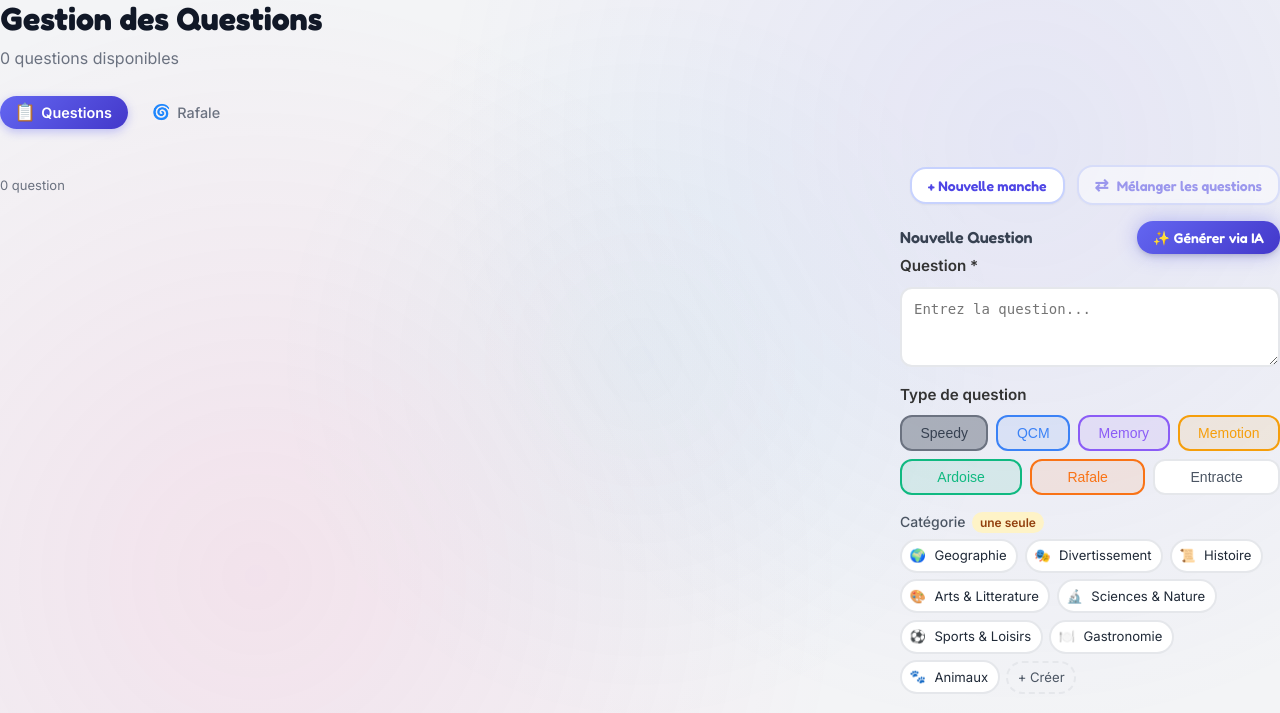
QuestionsPage — hasUnsavedQuizChanges : structurellement toujours false depuis #215 › aucun bandeau au chargement (gameState "à jour" par construction — plus de formulaire local sur cette page)
What coordinates should you click on to do the following:
click the button "✨ Générer via IA"
I would click on:
 (1208, 238)
Its box is [1137, 221, 1279, 254].
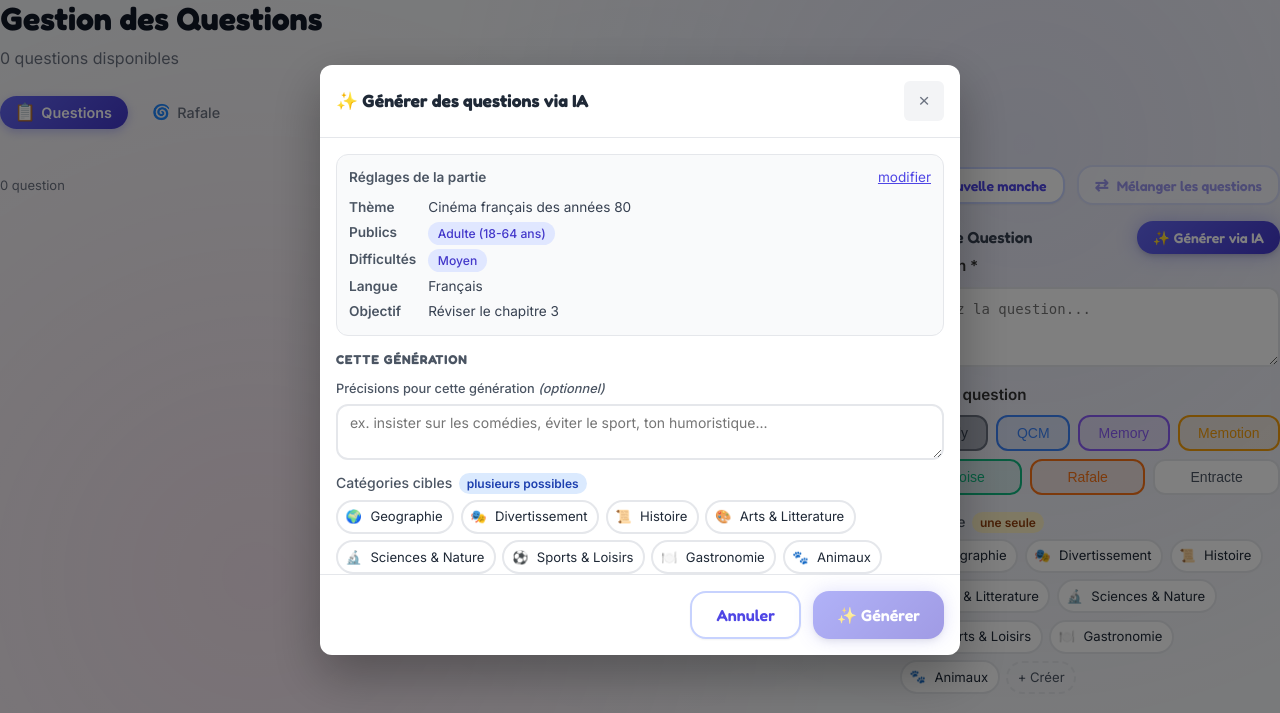
Now the text "Cinéma français des années 80" is shown, box [428, 198, 631, 214]
